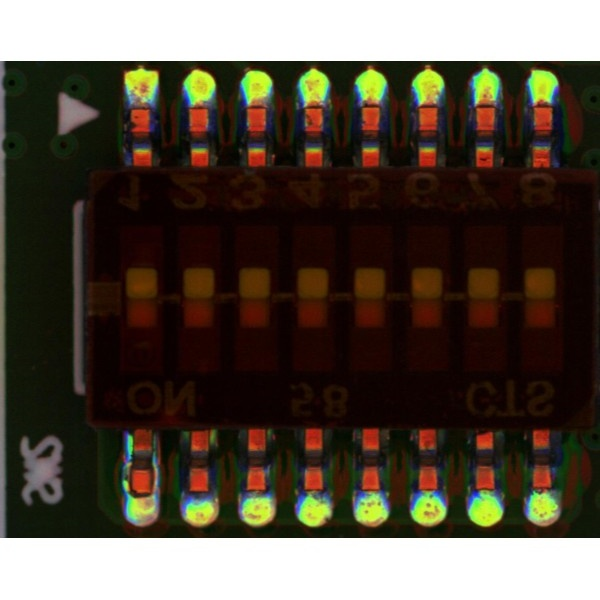Bad_podu: (122, 430, 132, 494), (152, 431, 161, 492), (247, 95, 267, 118), (476, 90, 494, 113), (305, 94, 323, 117), (418, 92, 436, 112), (363, 95, 380, 114), (533, 97, 553, 113)
